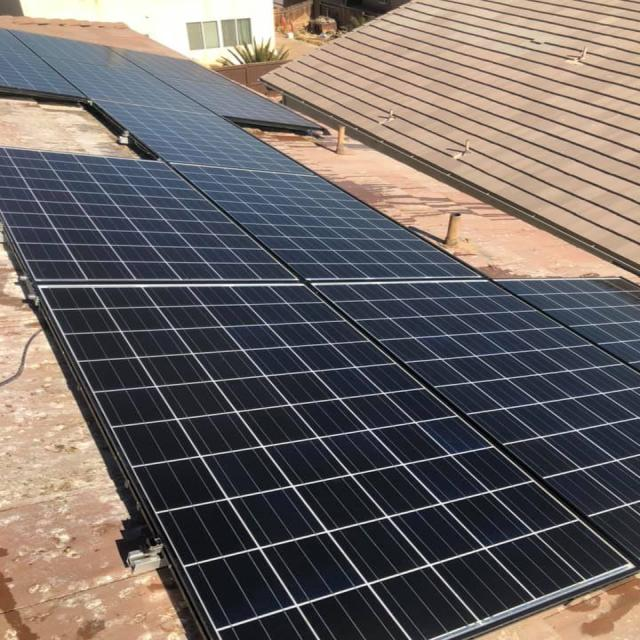clean-solar-panel: (3, 150, 637, 640), (2, 31, 318, 174)
